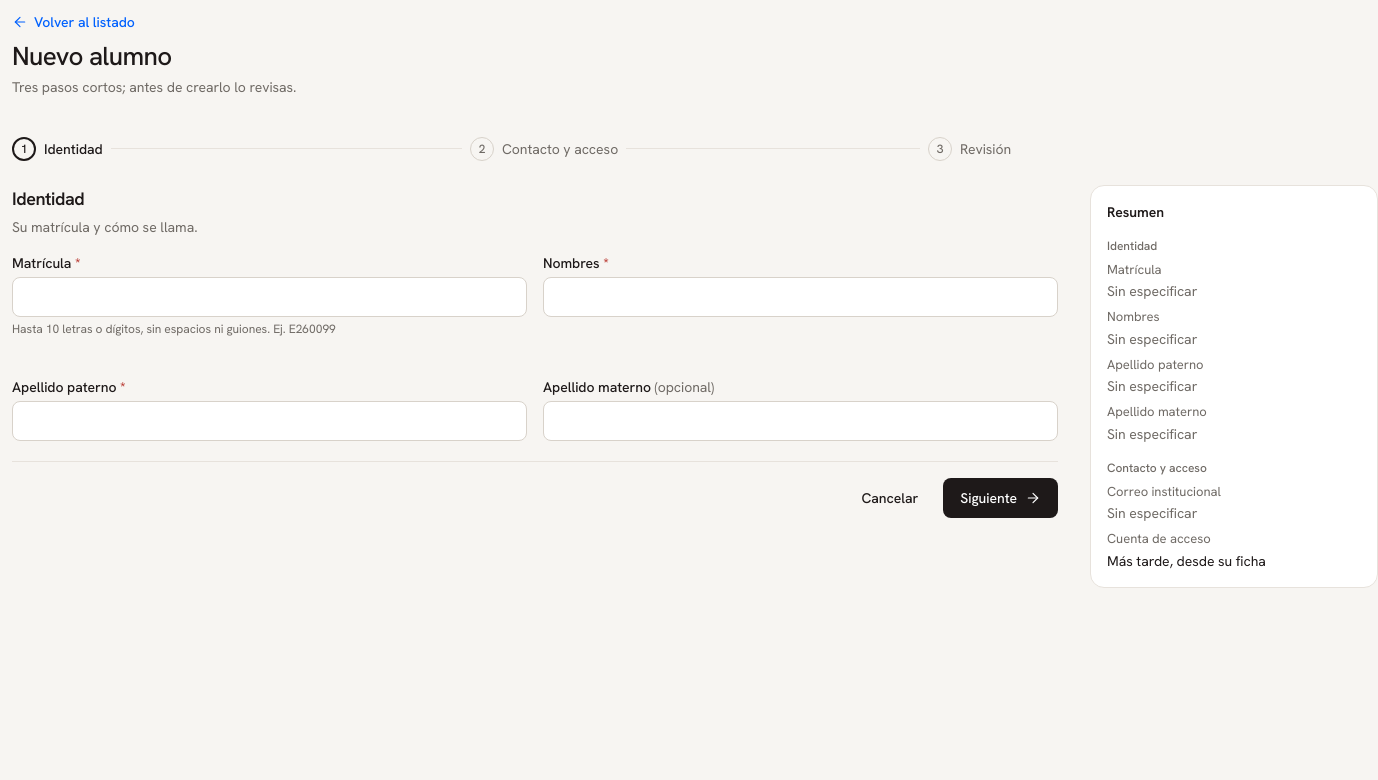
Scenario: NuevoAlumno: errores del servidor y duplicados › una matrícula libre se marca como disponible
Type "E260101" into the field labelled "Matrícula *". click: {"x": 270, "y": 296}
box: [12, 276, 527, 316]
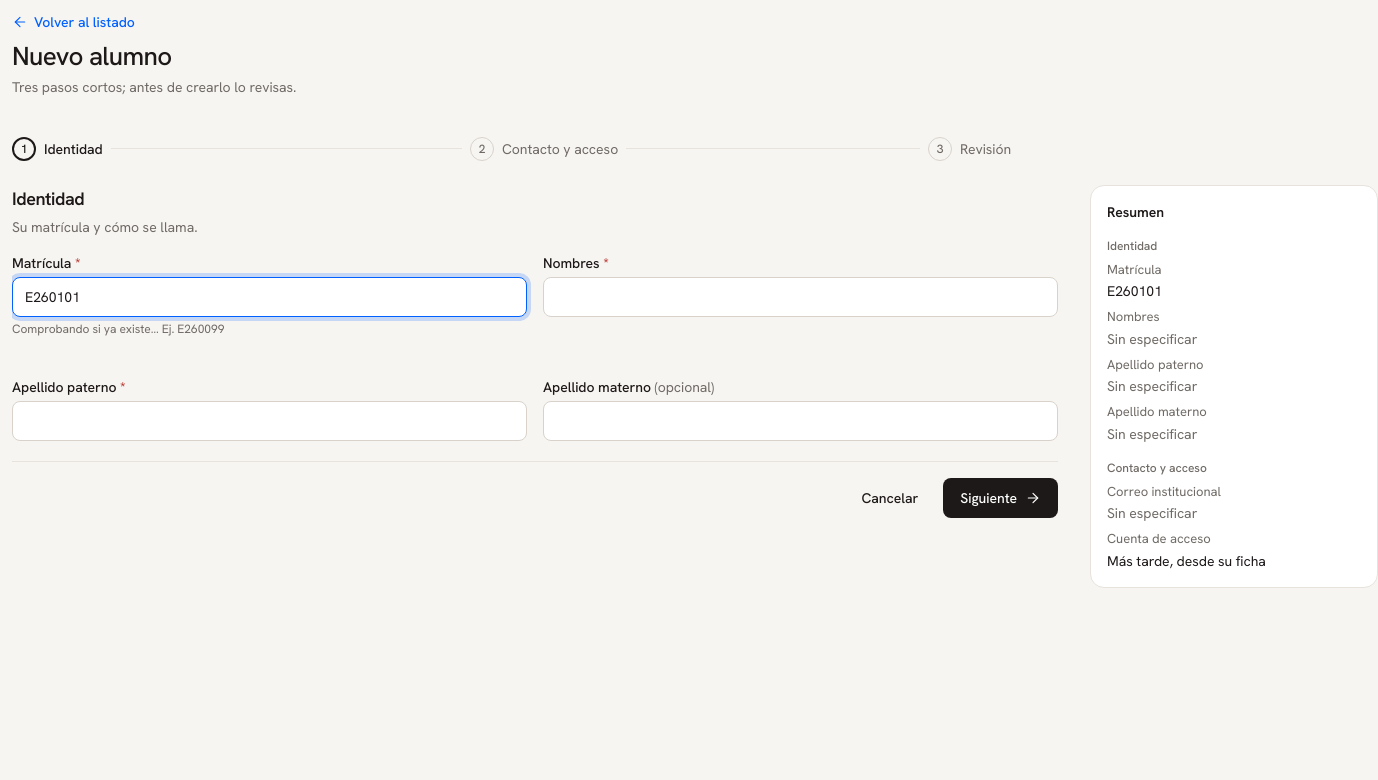
Press Tab
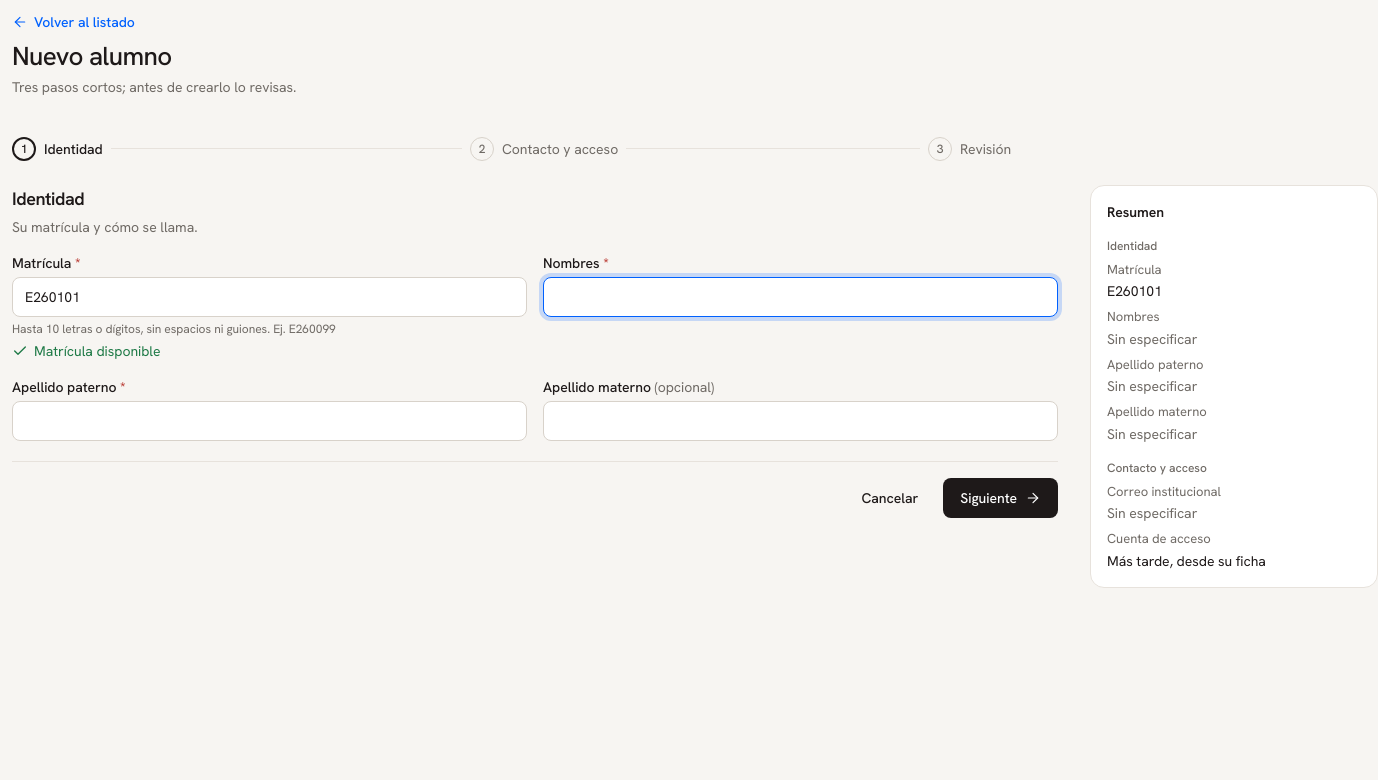
Expected: the text "Matrícula disponible" is shown, [12, 342, 161, 360]
